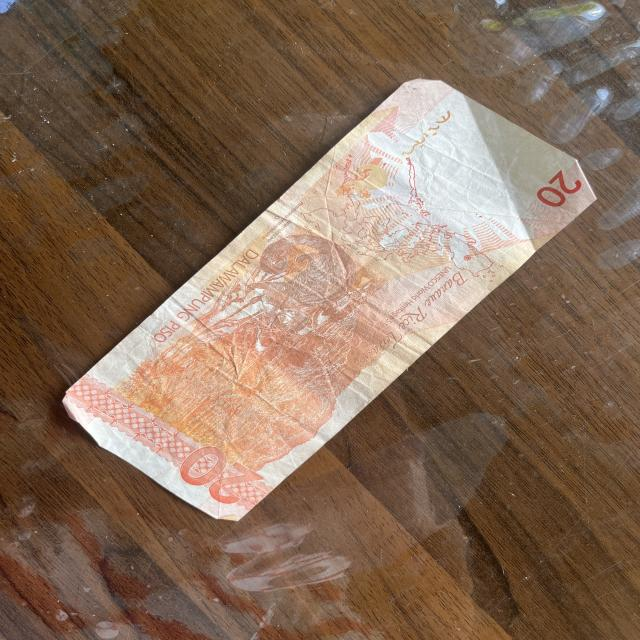20_civet_watermark: (235, 232, 366, 337), (333, 161, 396, 202)
